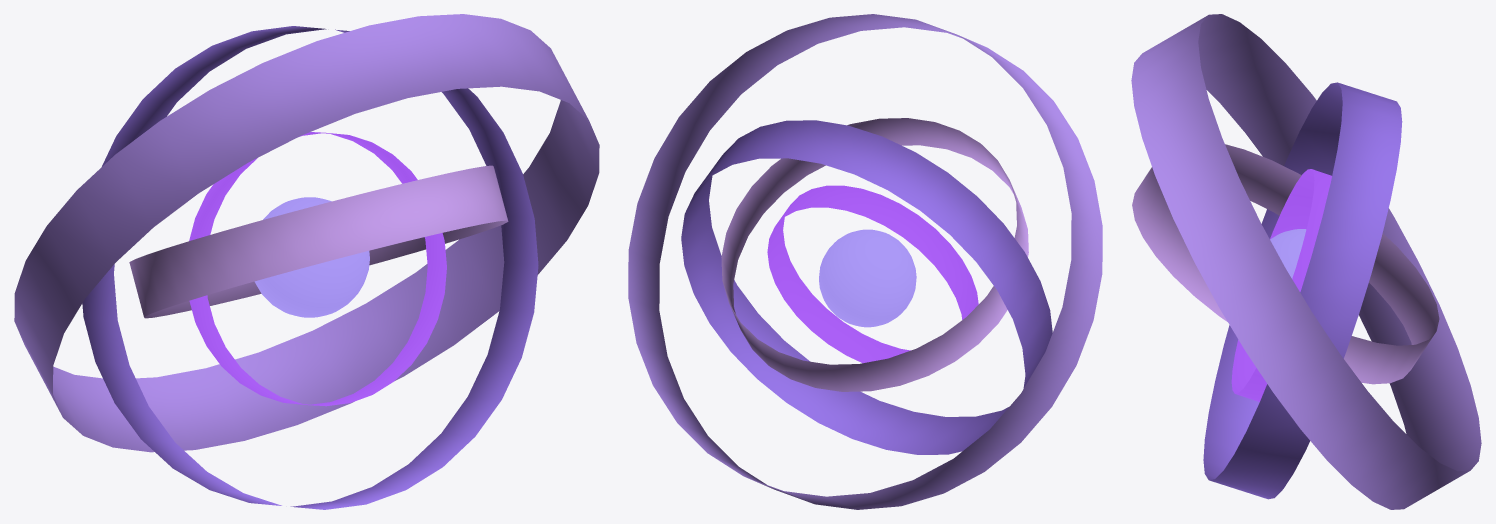
Rendered from metalicOrb.glb.
3 views of the same model, side by side, from view 1: azimuth 30°, elevation 25°; view 2: azimuth 150°, elevation 25°; view 3: azimuth 270°, elevation 25° (orthographic). The views are drawn at different scales.
Parts seen in each view (by area): view 1: Circle.003, Circle.001, Circle, Circle.002, Sphere; view 2: Circle.003, Circle.001, Circle, Circle.002, Sphere; view 3: Circle.003, Circle.001, Circle, Circle.002, Sphere.
Part boxes in pixels (x1,y1,x2,y2): Circle.003: [14, 14, 599, 452]; Circle.001: [82, 26, 538, 509]; Circle: [129, 165, 508, 318]; Circle.002: [189, 132, 446, 406]; Sphere: [254, 197, 369, 317]; Circle.003: [628, 14, 1102, 509]; Circle.001: [681, 120, 1052, 454]; Circle: [721, 118, 1028, 391]; Circle.002: [767, 185, 978, 363]; Sphere: [819, 229, 916, 327]; Circle.003: [1131, 14, 1481, 509]; Circle.001: [1203, 82, 1402, 499]; Circle: [1132, 144, 1439, 384]; Circle.002: [1231, 169, 1331, 401]; Sphere: [1270, 229, 1306, 278].
Bounding box in the file's own units: 3.2 × 2.96 × 2.13.
